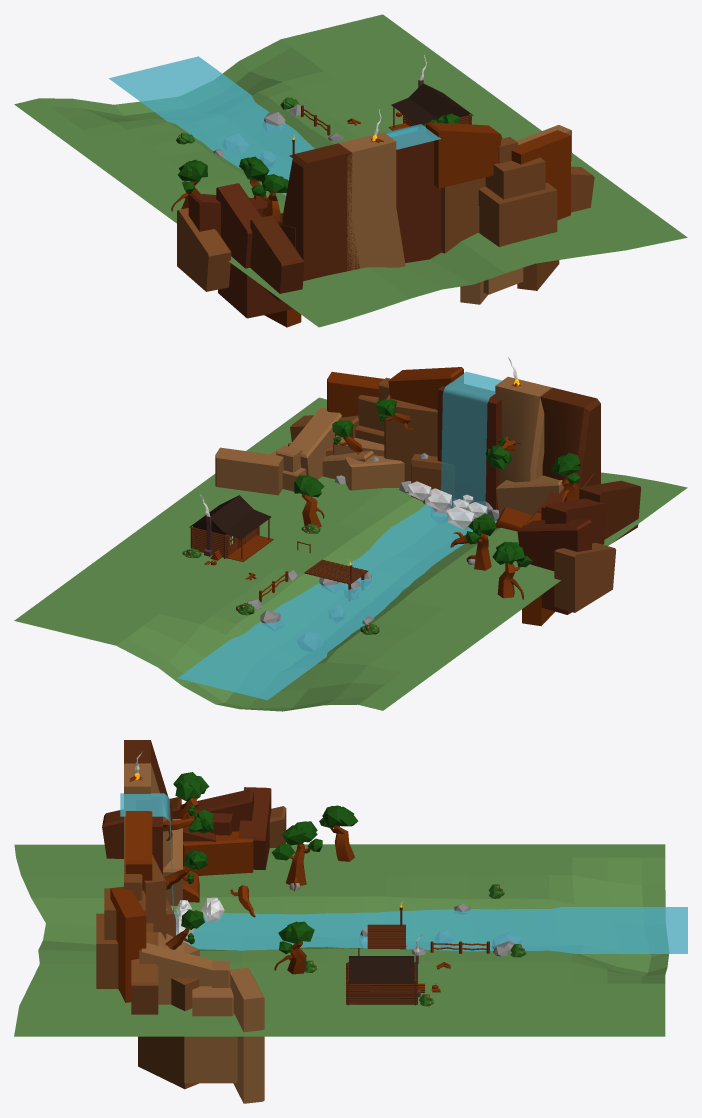
File: mountain_scenario_low_poly.glb
3 views of the same model, one above another, from view 1: azimuth 30°, elevation 25°; view 2: azimuth 150°, elevation 25°; view 3: azimuth 270°, elevation 25° (orthographic). The views are drawn at different scales.
Visible parts, largest first — view 1: Escenario, pPlane5, pCube62, pCube45, pCube51, pCube1, pCube59, pCube73, pCube72, pCube52, pCube48, pCube74 (+8 smaller); view 2: Escenario, pPlane5, pCube1, pPlane2, pCube62, pCube45, pCube73, pCube48, pCube61, pCube71, pCube59, pCube72 (+15 smaller); view 3: Escenario, pPlane5, pCube57, pCube61, pCube56, pCube52, pCube51, pCube55, pCube69, pCube59, Madera_Techo38, pCube45 (+12 smaller).
Boxes of the visible parts, box(x1,y1,x2,y2) form: Escenario: box(14, 14, 687, 327); pPlane5: box(109, 56, 314, 195); pCube62: box(282, 143, 359, 281); pCube45: box(339, 132, 405, 270); pCube51: box(478, 137, 557, 246); pCube1: box(392, 129, 441, 262); pCube59: box(426, 122, 501, 188); pCube73: box(177, 208, 231, 291); pCube72: box(250, 215, 304, 301); pCube52: box(511, 130, 570, 220); pCube48: box(441, 177, 485, 253); pCube74: box(216, 183, 261, 268); Escenario: box(14, 397, 687, 711); pPlane5: box(177, 504, 497, 700); pCube1: box(437, 383, 501, 509); pPlane2: box(441, 371, 502, 510); pCube62: box(540, 387, 600, 489); pCube45: box(495, 376, 552, 509); pCube73: box(554, 543, 616, 612); pCube48: box(384, 395, 437, 481); pCube61: box(215, 447, 283, 495); pCube71: box(517, 519, 591, 570); pCube59: box(388, 367, 463, 409); pCube72: box(579, 480, 640, 542); Escenario: box(14, 844, 668, 1036); pPlane5: box(174, 907, 687, 953); pCube57: box(184, 960, 237, 1083); pCube61: box(230, 967, 264, 1103); pCube56: box(138, 978, 199, 1089); pCube52: box(110, 886, 146, 1002); pCube51: box(96, 873, 153, 988); pCube55: box(139, 943, 214, 1004); pCube69: box(183, 831, 253, 875); pCube59: box(125, 811, 152, 890); Madera_Techo38: box(349, 957, 414, 983); pCube45: box(124, 763, 172, 872).
Bounding box in the file's own units: 46.95 × 25.29 × 66.13.
